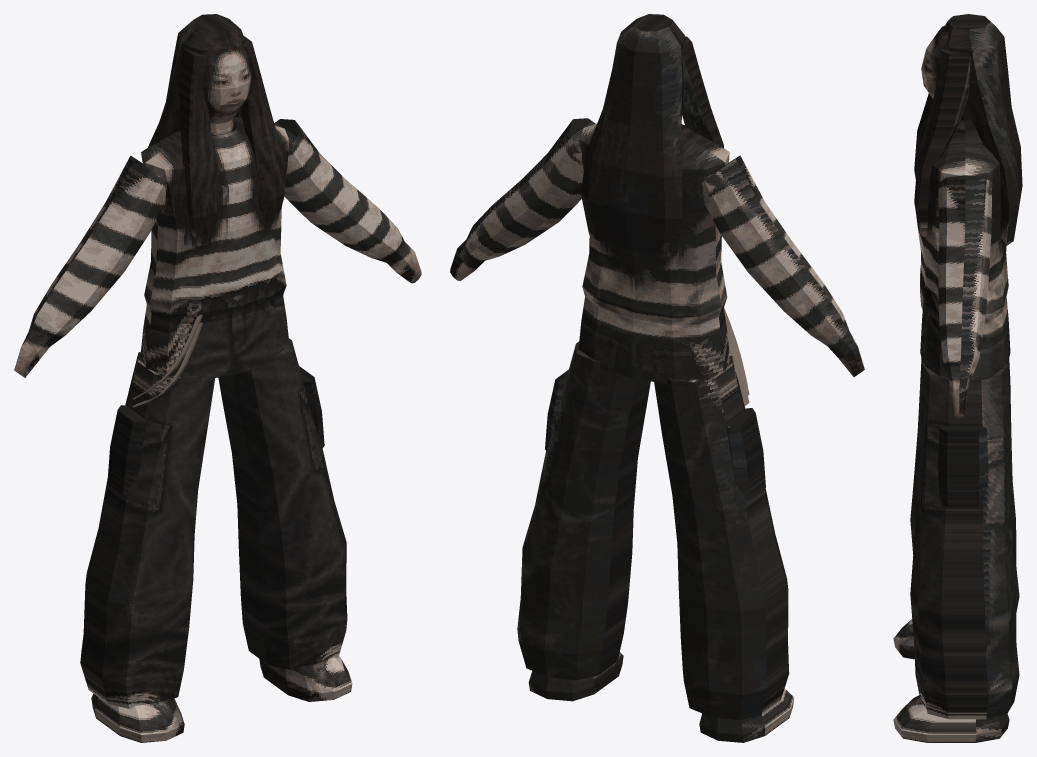
The model's file is ps2_character_asset.glb.
3 renders of one model, left to right at view 1: azimuth 30°, elevation 25°; view 2: azimuth 150°, elevation 25°; view 3: azimuth 270°, elevation 25°, orthographic. The views are drawn at different scales.
Visible parts, largest first — view 1: PS2_Streetwear_Character; view 2: PS2_Streetwear_Character; view 3: PS2_Streetwear_Character.
Boxes of the visible parts, left/top/right/bottom form: PS2_Streetwear_Character: left=14, top=14, right=421, bottom=742; PS2_Streetwear_Character: left=450, top=14, right=864, bottom=742; PS2_Streetwear_Character: left=893, top=14, right=1022, bottom=742.
Size of the model in its own units: 1.08 by 1.7 by 0.298.
1 material, 1 textured.
